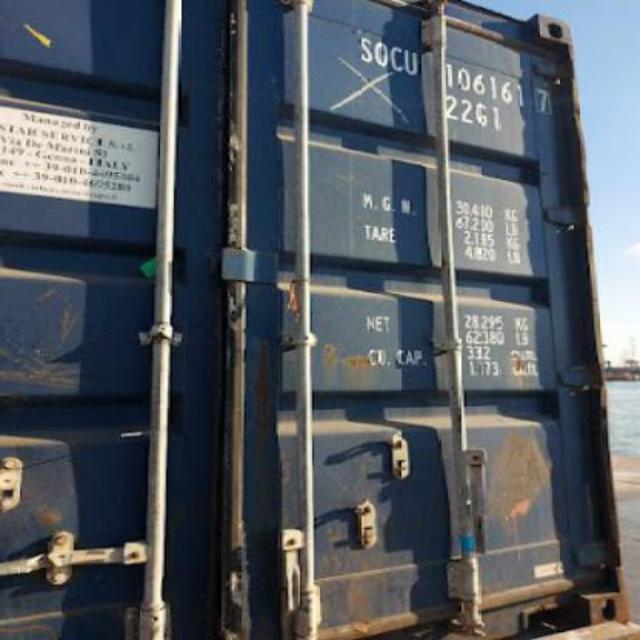0: (458, 57, 470, 93)
1: (488, 70, 502, 100), (444, 60, 456, 88)
6: (472, 61, 488, 97), (502, 68, 514, 108)
7: (534, 86, 558, 118), (518, 75, 528, 111)
C: (392, 44, 406, 74)
O: (376, 38, 389, 72)
S: (361, 33, 374, 65)
U: (406, 44, 419, 76)
